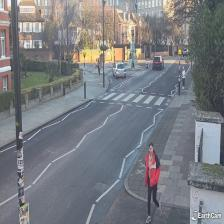person: (144, 142, 160, 222)
